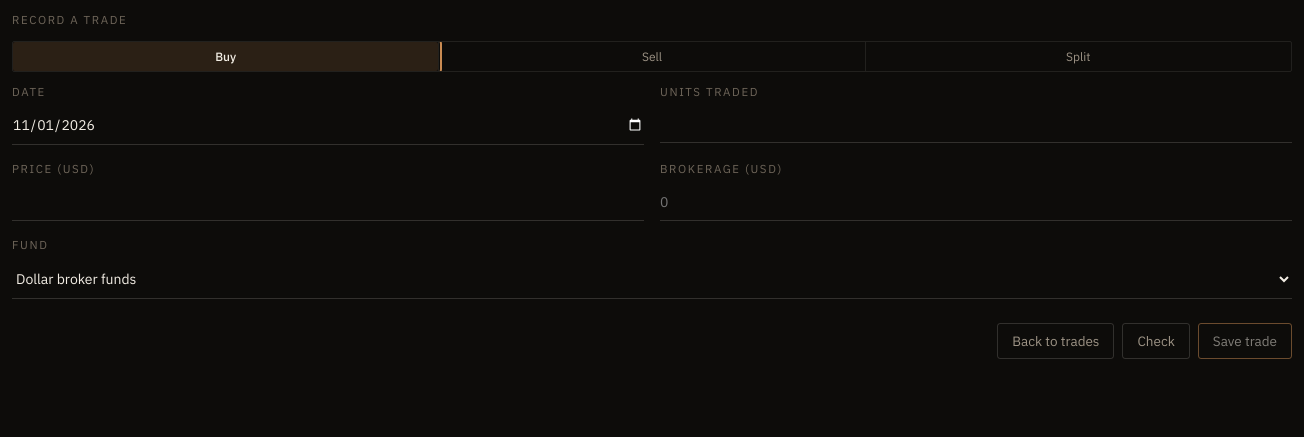
TradeForm: recording a trade › shows the average moving on a buy
In the number field labelled "Units traded": (976, 125) left=660, top=106, right=1292, bottom=143, type "5"
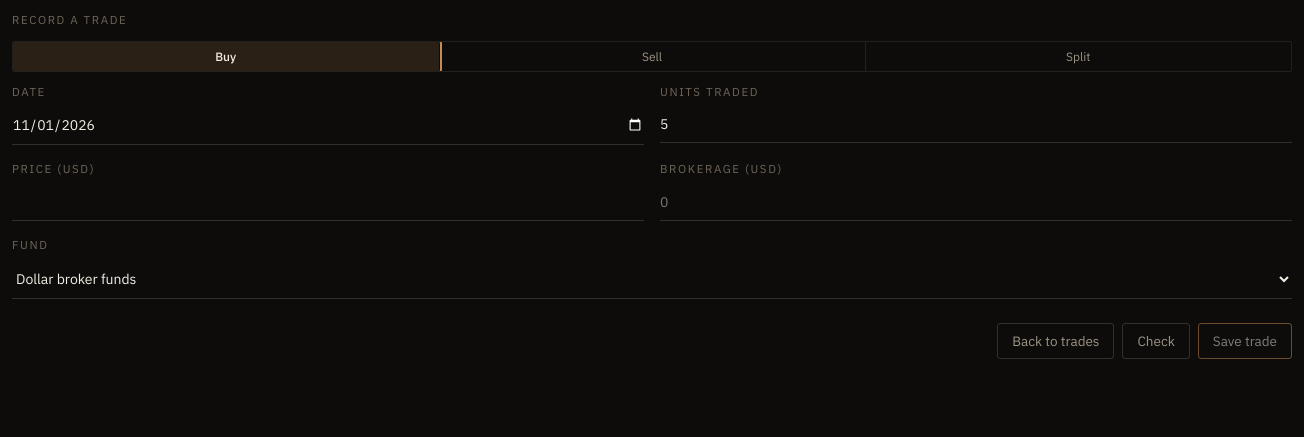
In the number field labelled "Price (USD)": (328, 202) left=12, top=184, right=644, bottom=221, type "130"
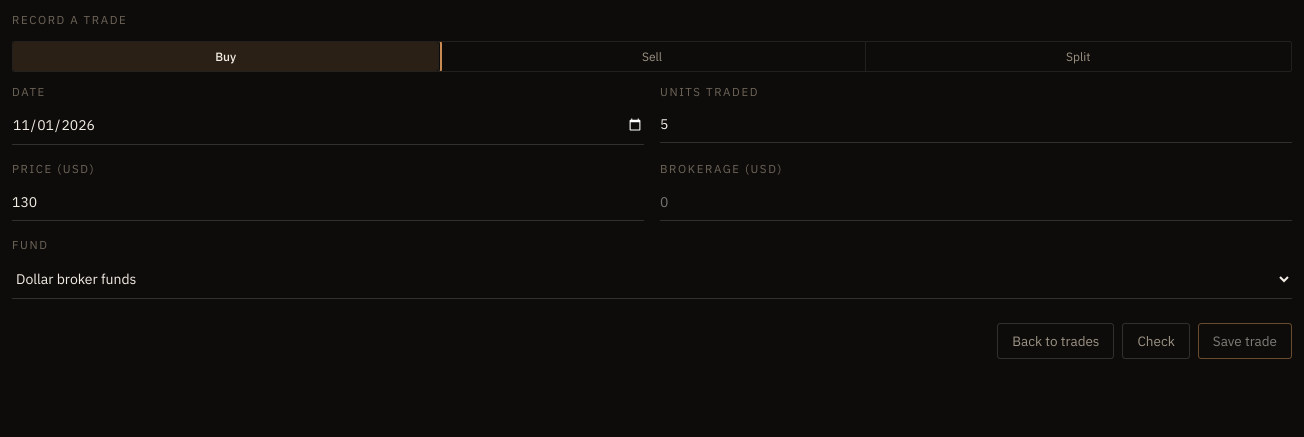
Click the button "Check": (1156, 341) left=1122, top=323, right=1190, bottom=359
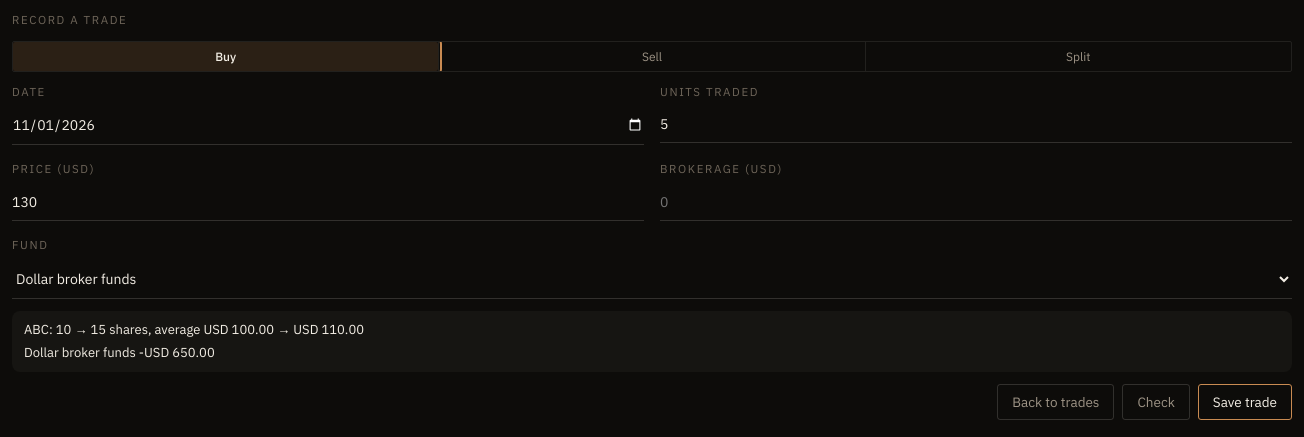
Check: the text "ABC: 10 → 15 shares, average USD 100.00 → USD 110.00" is shown, box left=24, top=321, right=364, bottom=338
Check: the text "Dollar broker funds -USD 650.00" is shown, box left=24, top=344, right=215, bottom=360
